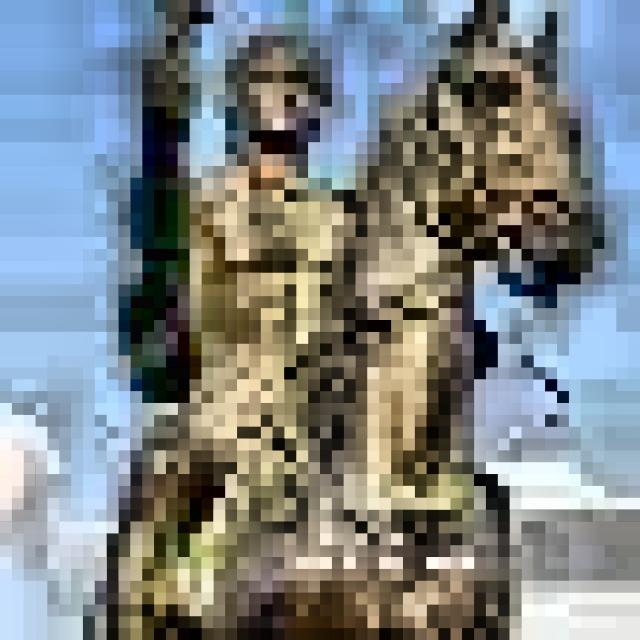alexander the great monument: (78, 0, 612, 640)
